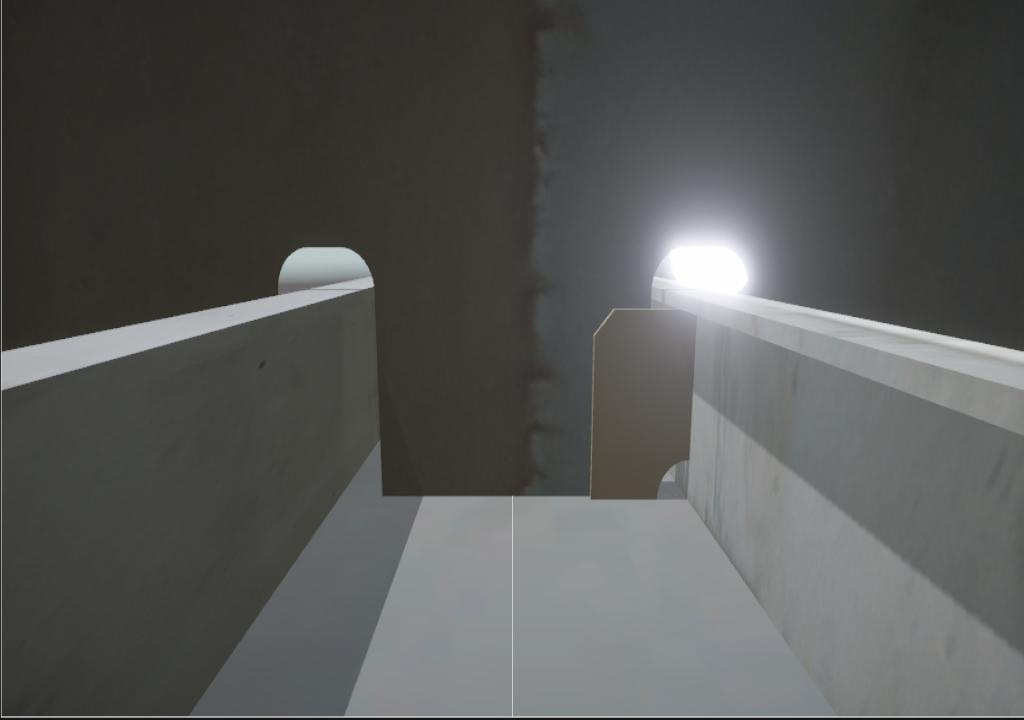fillet_yong_jeop_jang: (380, 492, 590, 500)
plate_CP04: (590, 306, 697, 501)
